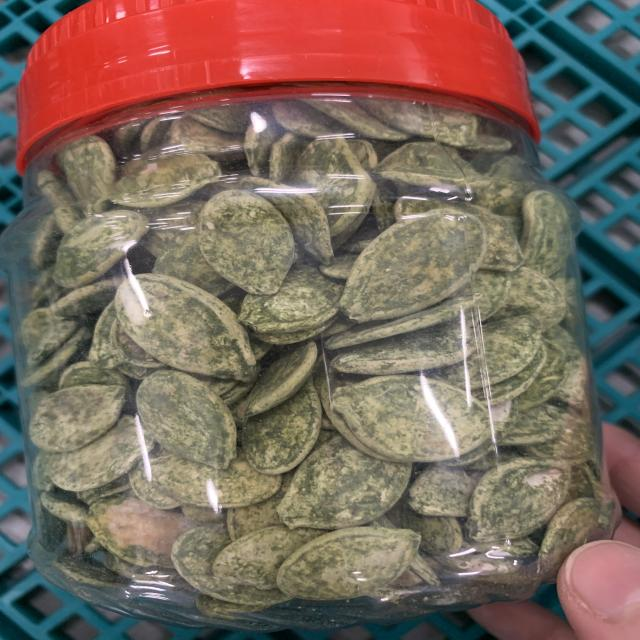object_name: (10, 16, 561, 576)
